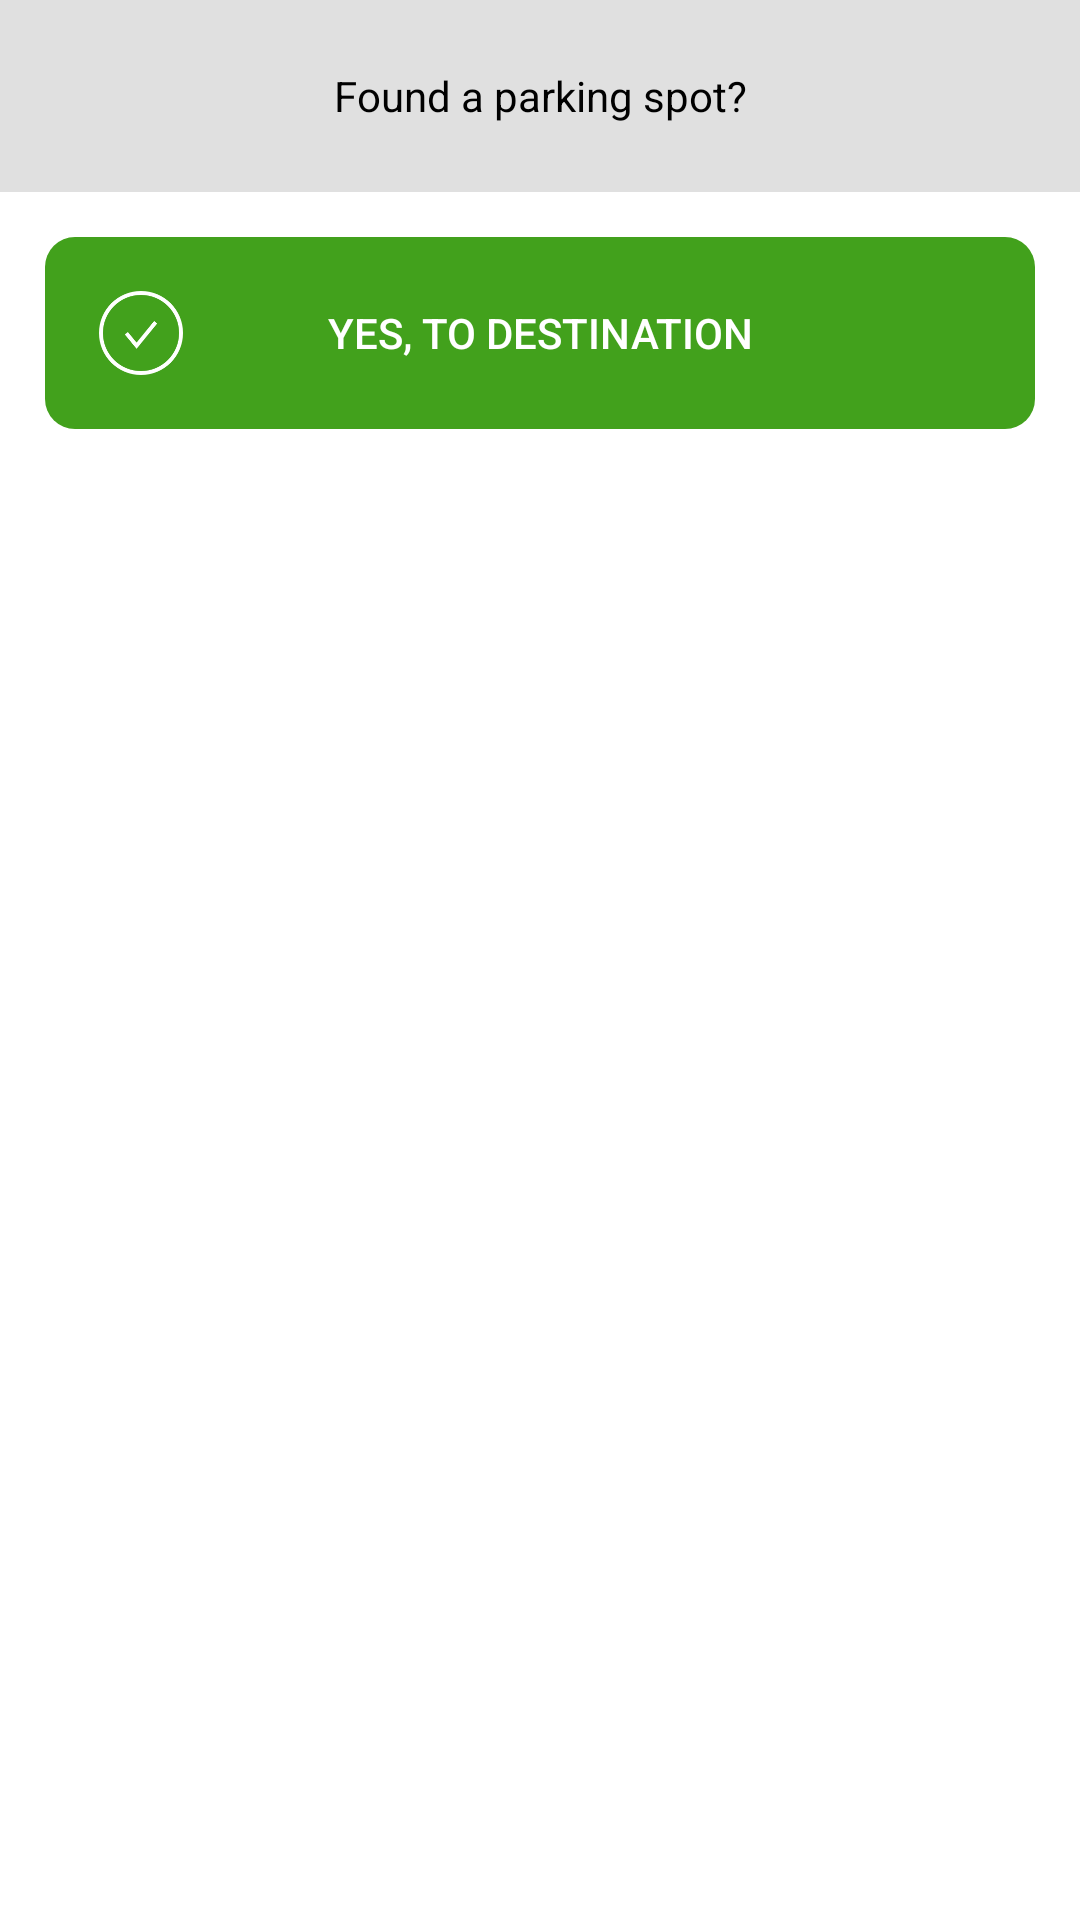

Icon bounding boxes for this 1080 × 1920 phone screenshot, format rect(x1, y1, x2, y2):
successfully parked: rect(45, 237, 237, 429)
